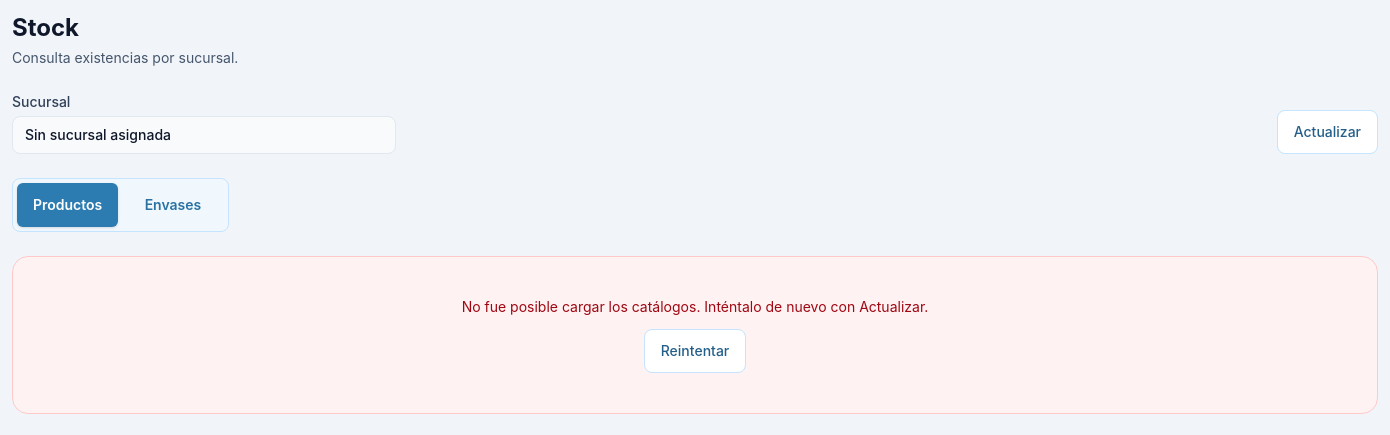
it: FE-05 / FE-06 · lectura de stock › muestra error del catálogo y permite reintentarlo
Expected: the message shows "No fue posible cargar los catálogos", top-left (462, 298), bottom-right (928, 315)
Expected: the text "Sin registros" is not shown
Click the button "Actualizar". click: click(1327, 132)
box: top-left (1277, 110), bottom-right (1378, 154)
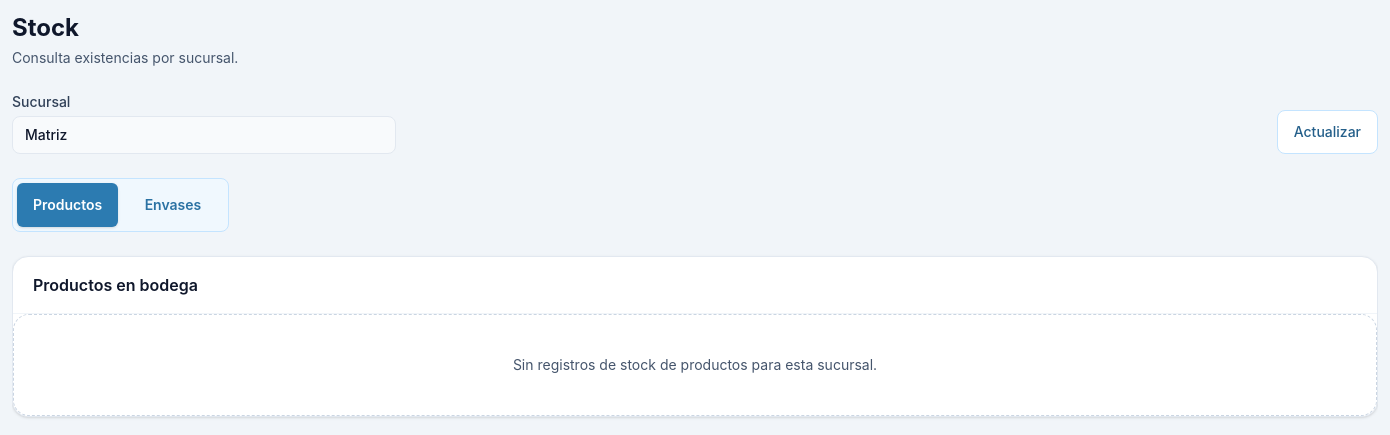
Result: the text "Sin registros de stock de productos para esta sucursal." is shown at top-left (513, 355), bottom-right (877, 375)
